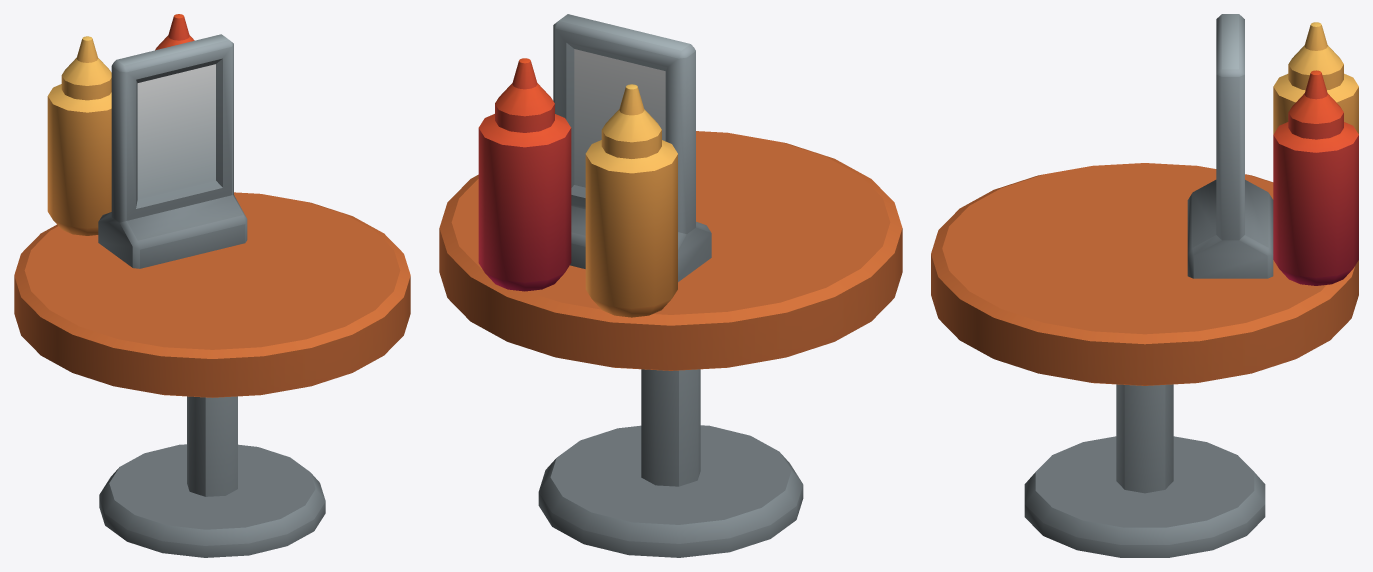
The model's file is table_round_A_small_decorated.obj.
3 views of the same model, side by side, from view 1: azimuth 30°, elevation 25°; view 2: azimuth 150°, elevation 25°; view 3: azimuth 270°, elevation 25° (orthographic). The views are drawn at different scales.
Parts seen in each view (by area): view 1: table_round_A_small_decorated_Cylinder.010; view 2: table_round_A_small_decorated_Cylinder.010; view 3: table_round_A_small_decorated_Cylinder.010.
Boxes of the visible parts, box(x1,y1,x2,y2) form: table_round_A_small_decorated_Cylinder.010: box(14, 14, 410, 557); table_round_A_small_decorated_Cylinder.010: box(439, 14, 902, 557); table_round_A_small_decorated_Cylinder.010: box(931, 14, 1358, 557).
Size of the model in its own units: 1.5 by 1.8 by 1.5.
Materials: 1 (1 with a texture image).
